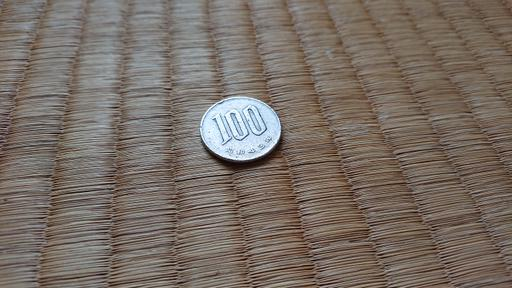100yen: (200, 96, 281, 163)
